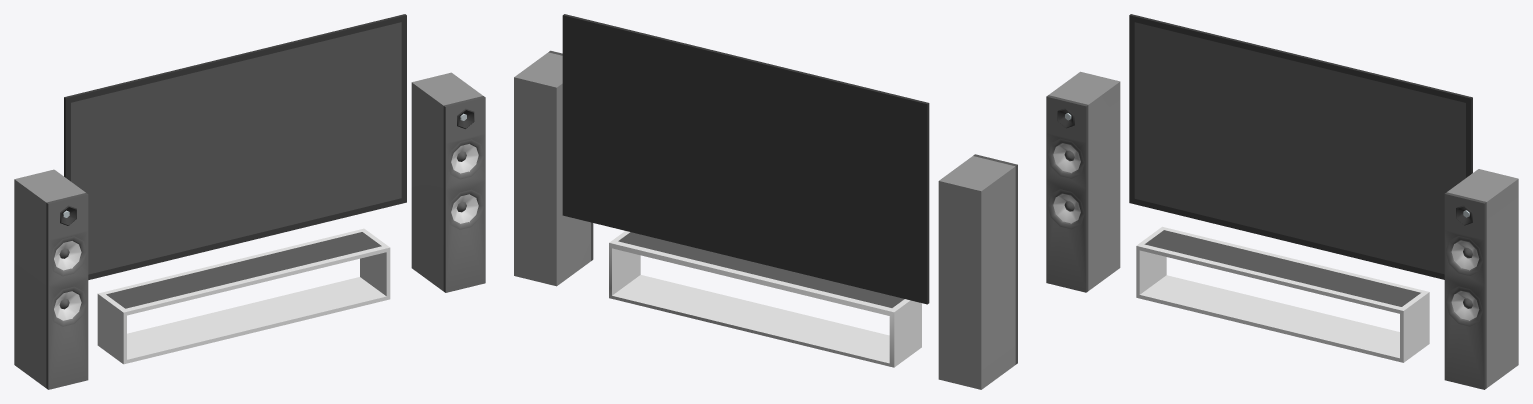
3 renders of one model, left to right at view 1: azimuth 30°, elevation 25°; view 2: azimuth 150°, elevation 25°; view 3: azimuth 330°, elevation 25°, orthographic. The views are drawn at different scales.
Visible parts, largest first — view 1: tv_wall_001; view 2: tv_wall_001; view 3: tv_wall_001.
Part boxes in pixels (x1,y1,x2,y2): tv_wall_001: (14,14,485,389); tv_wall_001: (514,14,1017,389); tv_wall_001: (1046,14,1518,389).
Size of the model in its own units: 13.46 by 7.51 by 1.86.
Materials: 1 (1 with a texture image).
